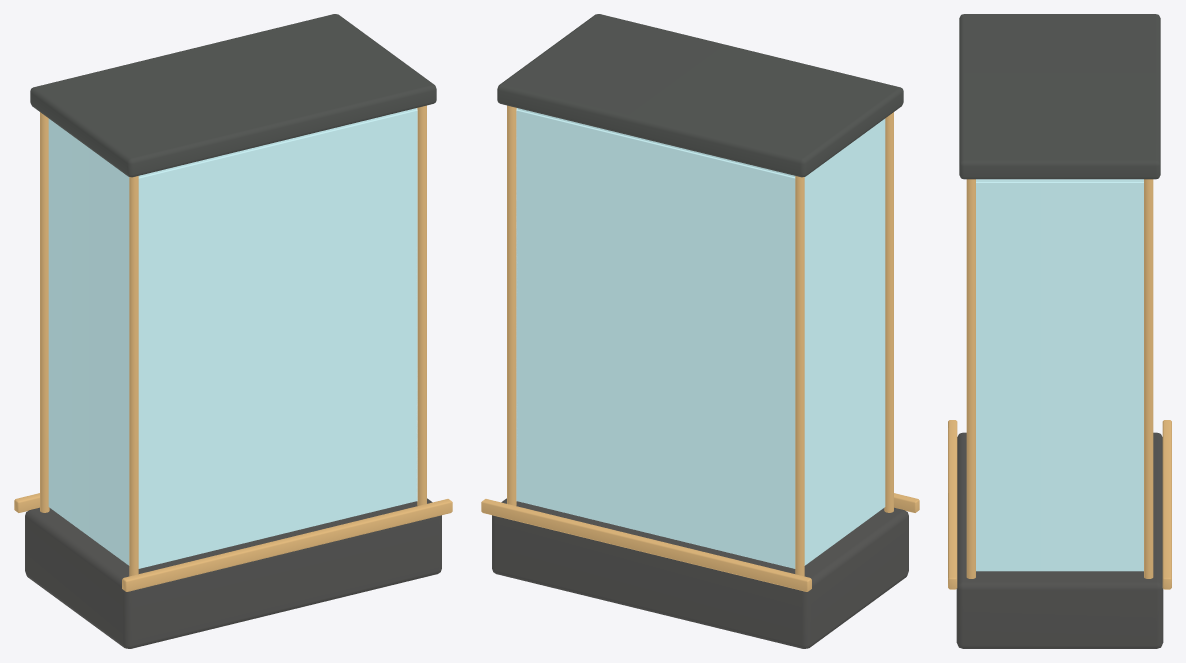
Rendered from hp_furniture_museum_glass_display_case_v1.glb.
3 renders of one model, left to right at view 1: azimuth 30°, elevation 25°; view 2: azimuth 150°, elevation 25°; view 3: azimuth 270°, elevation 25°, orthographic.
Parts seen in each view (by area): view 1: glass_front_panel, heavy_black_stone_base; view 2: glass_front_panel, heavy_black_stone_base; view 3: glass_front_panel, heavy_black_stone_base.
Boxes of the visible parts, x1,y1,x2,y2 form: glass_front_panel: (48,108,417,568); heavy_black_stone_base: (14,14,452,648); glass_front_panel: (516,108,885,568); heavy_black_stone_base: (481,14,919,648); glass_front_panel: (976,179,1143,571); heavy_black_stone_base: (948,14,1171,648).
Size of the model in its own units: 1.42 by 2.03 by 0.8451.
Materials: 3 (3 with a texture image).
